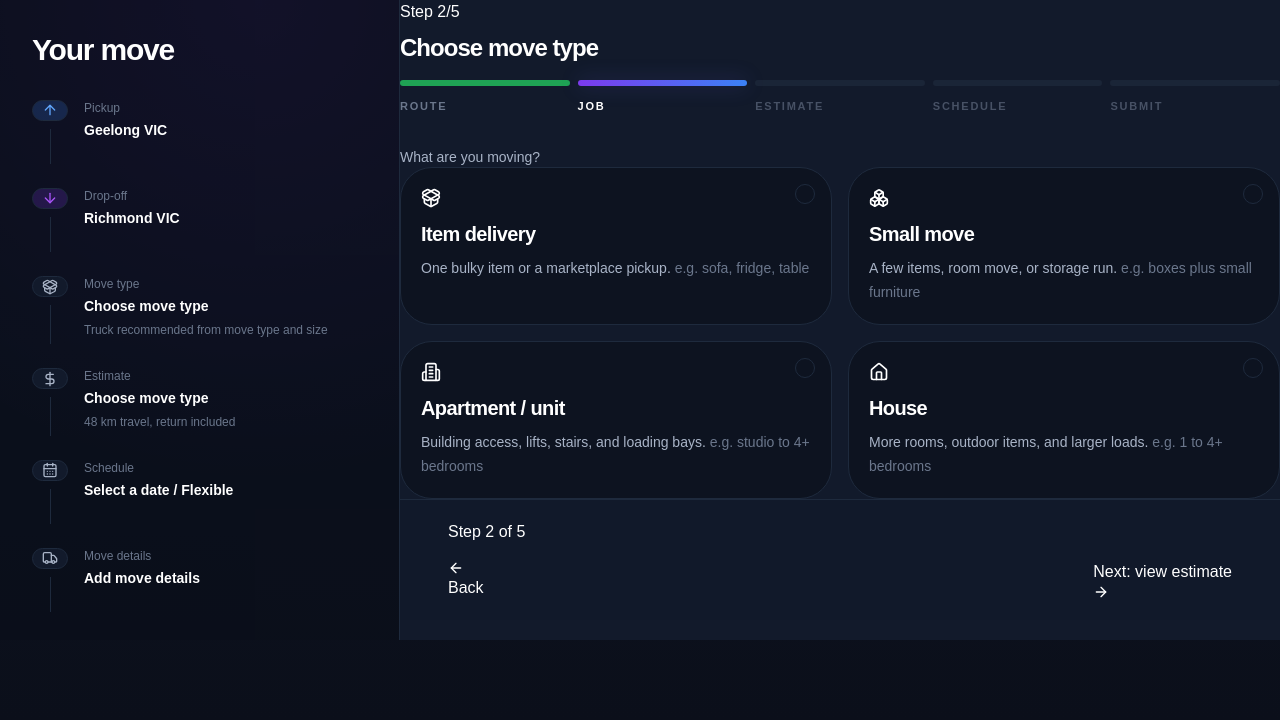
Test: QuoteForm route pricing integration › uses the real UI route estimate flow for pickup excess, return-base travel, and 30-minute rounding
Click the radio button labelled "House".
click(898, 408)  # box left=848, top=340, right=1279, bottom=498
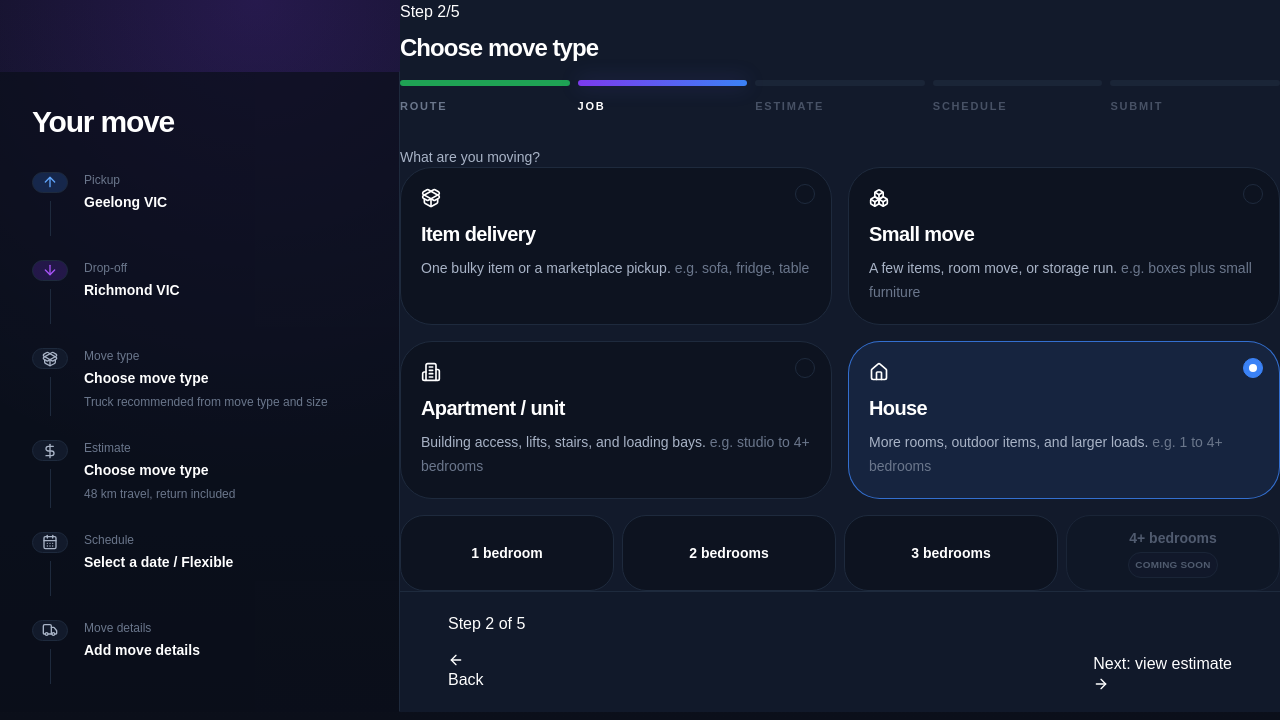
Click the radio button labelled "2 bedrooms".
click(729, 552)  # box left=622, top=514, right=836, bottom=590
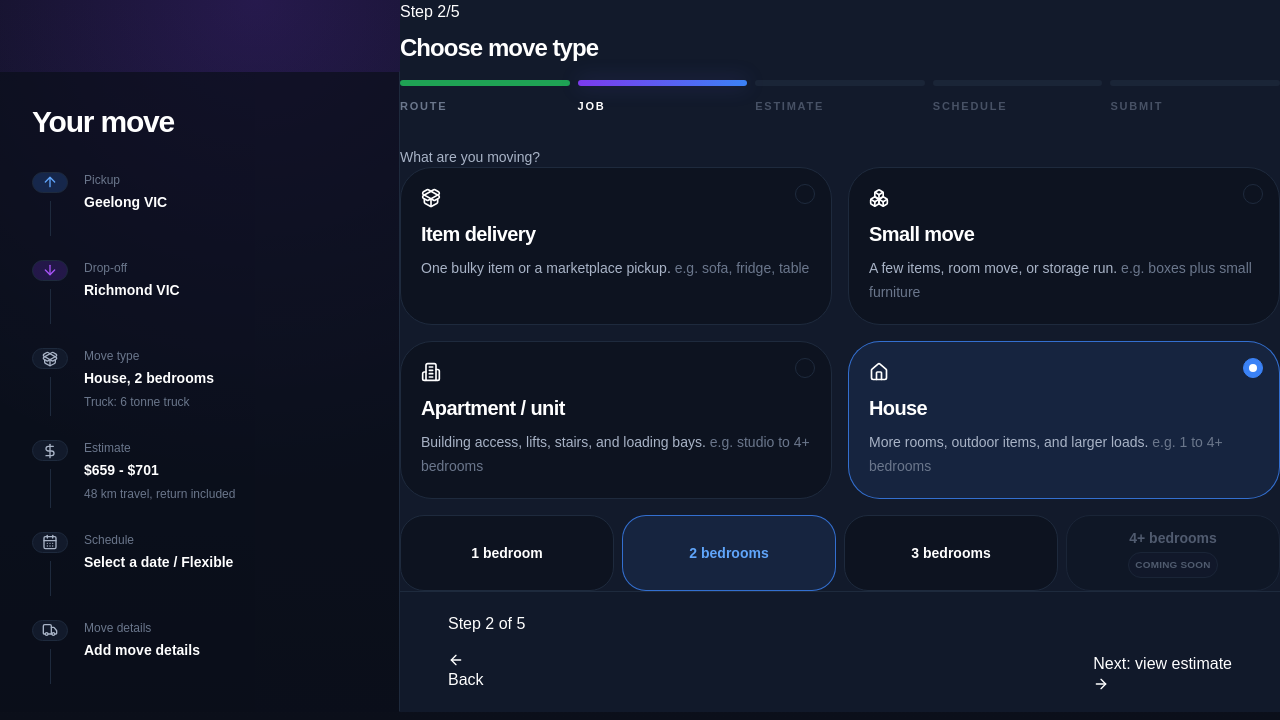
Expected: the text "$659 - $701" is shown, left=84, top=462, right=159, bottom=478
Click the button "Next: view estimate".
click(1163, 672)  # box left=1093, top=652, right=1232, bottom=692
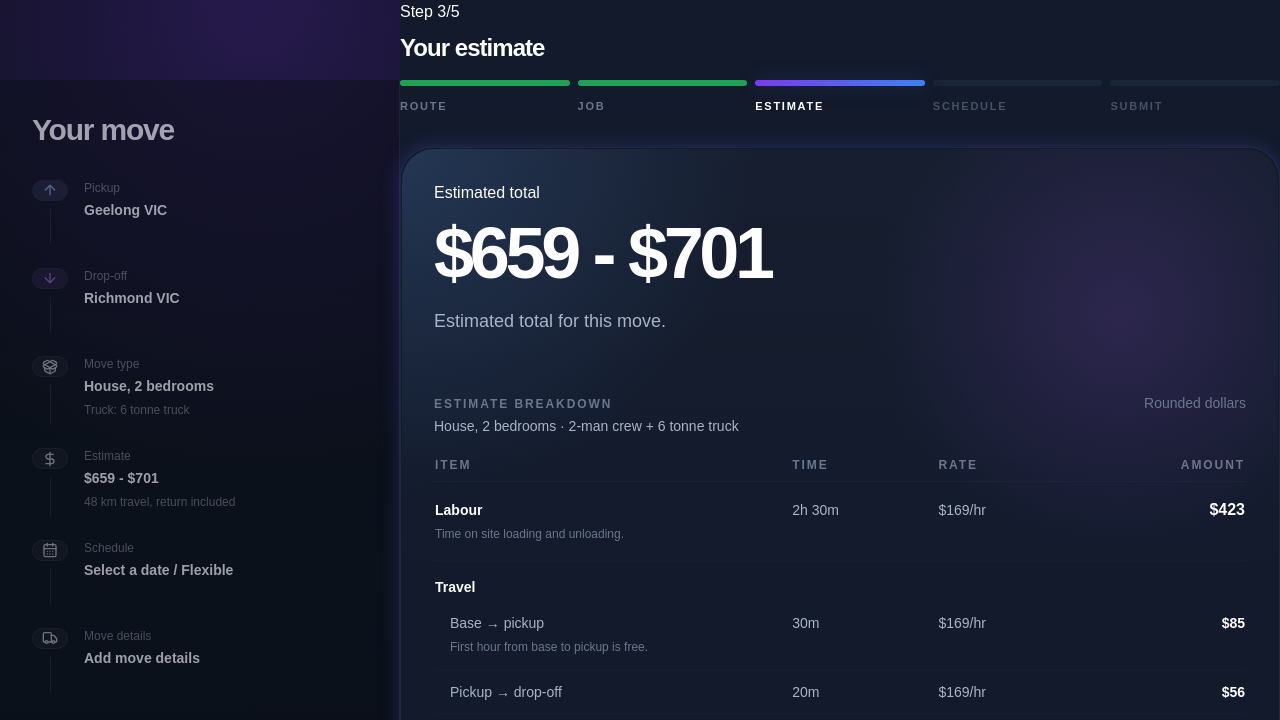
Expected: the text "$659 - $701" below "Truck: 6 tonne truck" is shown, left=84, top=470, right=159, bottom=486
Expected: the heading "Your estimate" is shown, left=400, top=34, right=544, bottom=61
Expected: the text "House, 2 bedrooms · 2-man crew + 6 tonne truck" is shown, left=434, top=416, right=739, bottom=436
